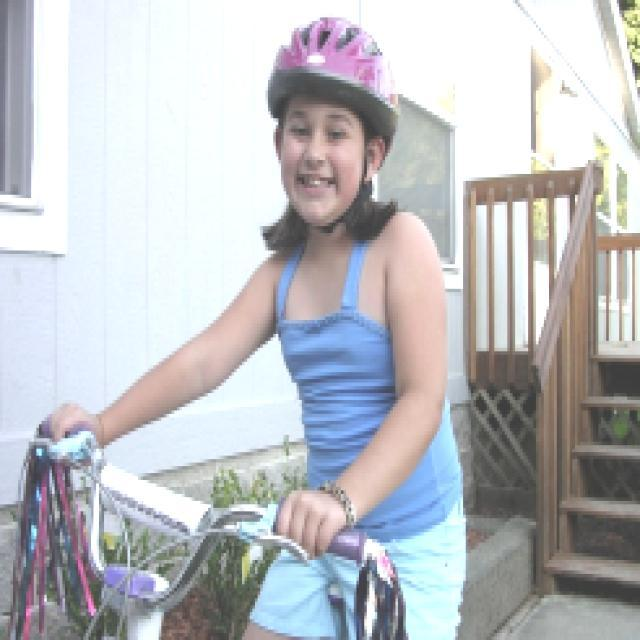Helmet: (260, 7, 414, 233)
